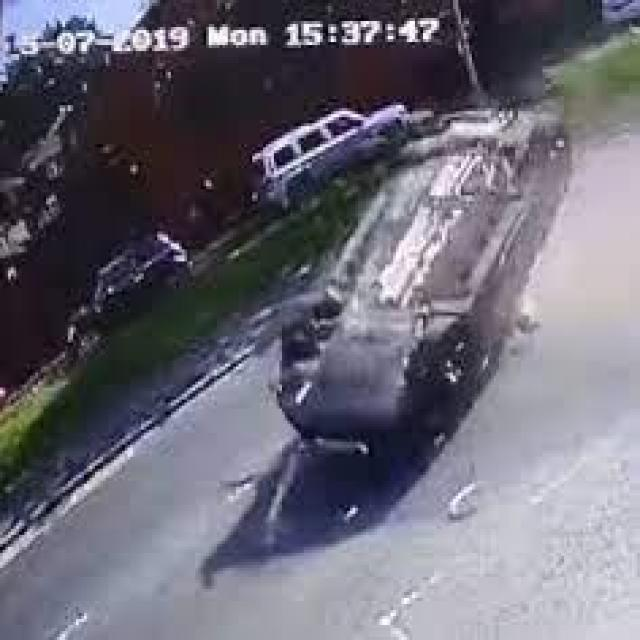accident: (264, 93, 579, 445)
